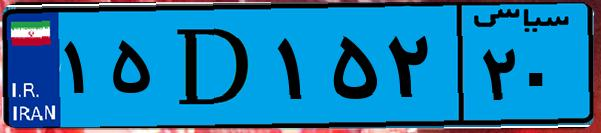0: (525, 38, 570, 115)
1: (270, 28, 330, 110), (57, 26, 110, 100)
2: (385, 28, 445, 110), (475, 38, 525, 113)
5: (330, 28, 385, 110), (110, 28, 158, 98)
D: (158, 12, 270, 120)
